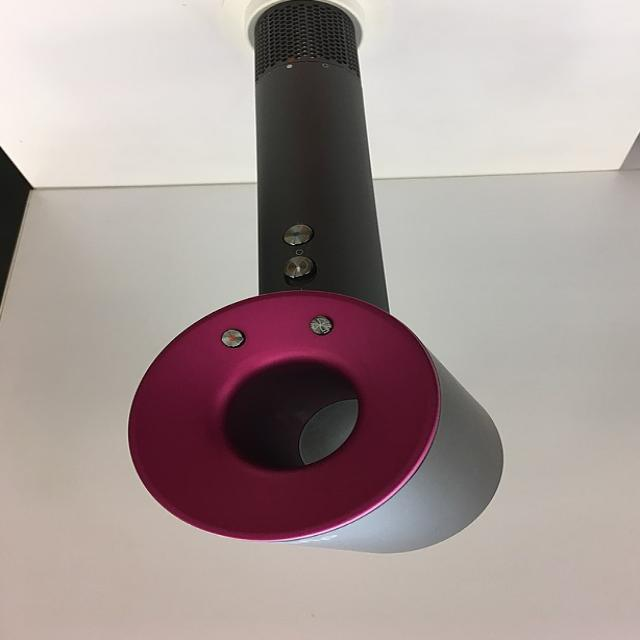dryer: (124, 0, 507, 557)
